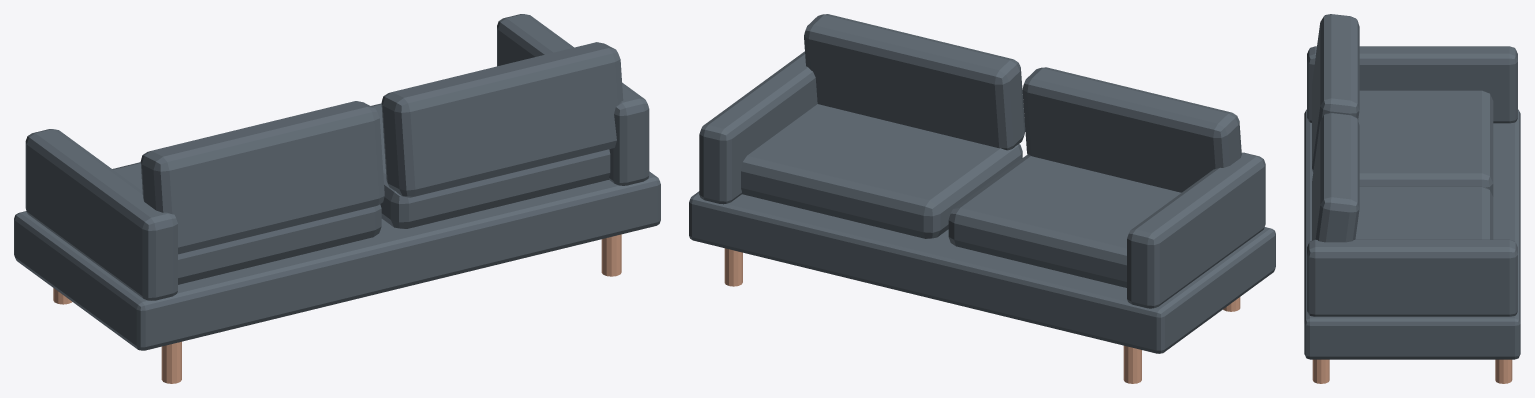
File: ai.sofa-2p.glb
3 renders of one model, left to right at view 1: azimuth 30°, elevation 25°; view 2: azimuth 150°, elevation 25°; view 3: azimuth 270°, elevation 25°, orthographic. The views are drawn at different scales.
Parts seen in each view (by area): view 1: Hero_Asset; view 2: Hero_Asset; view 3: Hero_Asset.
Part boxes in pixels (x1,y1,x2,y2): Hero_Asset: (14, 14, 660, 383); Hero_Asset: (689, 14, 1275, 383); Hero_Asset: (1304, 14, 1520, 383).
Size of the model in its own units: 1.87 by 0.75 by 0.7962.
